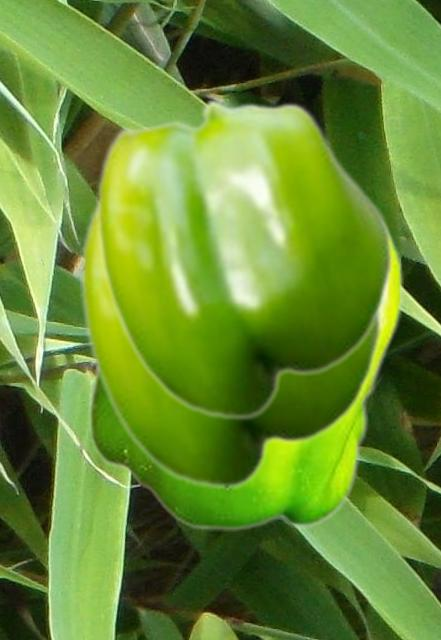bell_pepper: (87, 220, 402, 530), (96, 98, 393, 420), (80, 197, 382, 489)
